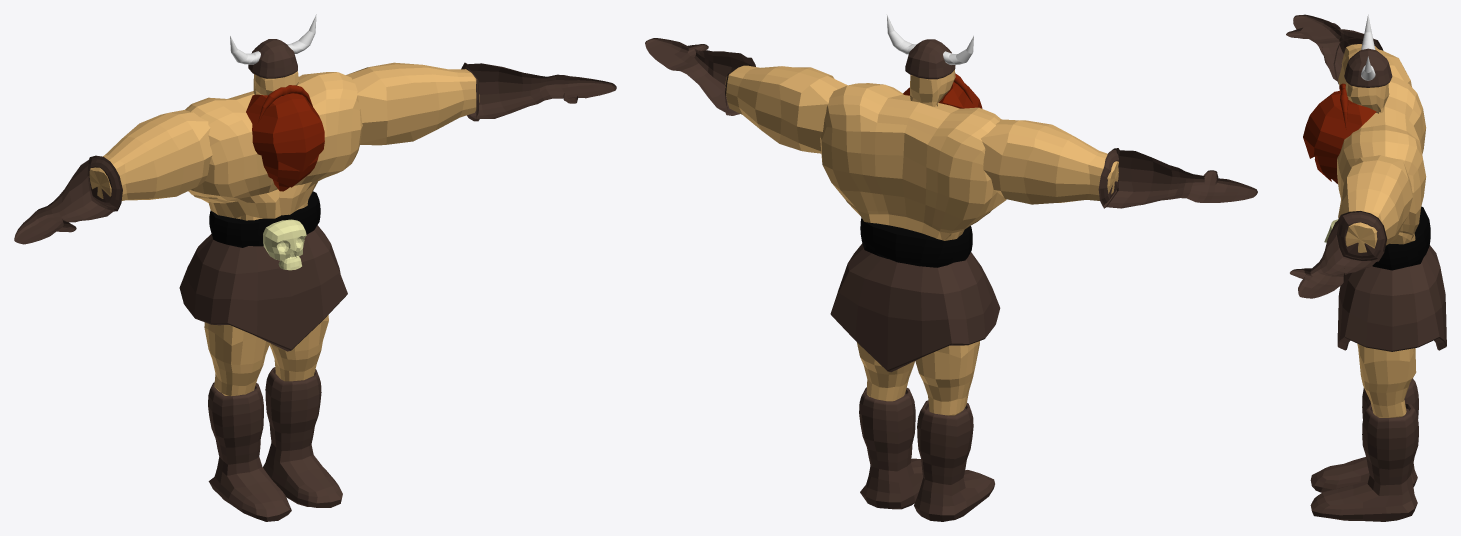
File: heroe.fbx
3 views of the same model, side by side, from view 1: azimuth 30°, elevation 25°; view 2: azimuth 150°, elevation 25°; view 3: azimuth 270°, elevation 25° (orthographic). The views are drawn at different scales.
Parts seen in each view (by area): view 1: falda, PECHO, Cubo.004, Cubo.001, Bota.R.001, Bota.R, BARBA, Guante.L, Guante.R, Cubo.007, cinturon, Cubo.003 (+2 smaller); view 2: PECHO, falda, Cubo.001, Cubo.004, Bota.R, Bota.R.001, Guante.R, cinturon, Guante.L, Cubo.007, Cubo.003, casco (+2 smaller); view 3: falda, Bota.R.001, PECHO, Cubo.004, Guante.L, Cubo.003, BARBA, Guante.R, Bota.R, cinturon, casco, cabeza (+4 smaller).
Boxes of the visible parts, bbox=[...] form: falda: bbox=[179, 225, 347, 351]; PECHO: bbox=[185, 72, 362, 220]; Cubo.004: bbox=[346, 62, 479, 145]; Cubo.001: bbox=[89, 109, 212, 200]; Bota.R.001: bbox=[263, 367, 342, 507]; Bota.R: bbox=[208, 382, 291, 521]; BARBA: bbox=[246, 93, 324, 191]; Guante.L: bbox=[461, 62, 616, 121]; Guante.R: bbox=[14, 155, 122, 244]; Cubo.007: bbox=[204, 322, 269, 396]; cinturon: bbox=[209, 191, 320, 247]; Cubo.003: bbox=[269, 315, 328, 381]; PECHO: bbox=[820, 83, 1006, 240]; falda: bbox=[830, 243, 1000, 372]; Cubo.001: bbox=[981, 119, 1118, 204]; Cubo.004: bbox=[725, 65, 847, 153]; Bota.R: bbox=[914, 400, 994, 521]; Bota.R.001: bbox=[859, 387, 922, 509]; Guante.R: bbox=[1098, 148, 1257, 208]; cinturon: bbox=[860, 217, 972, 267]; Guante.L: bbox=[645, 38, 755, 115]; Cubo.007: bbox=[915, 341, 979, 415]; Cubo.003: bbox=[857, 342, 914, 401]; casco: bbox=[905, 39, 955, 79]; falda: bbox=[1337, 245, 1446, 351]; Bota.R.001: bbox=[1310, 402, 1418, 521]; PECHO: bbox=[1337, 76, 1426, 244]; Cubo.004: bbox=[1338, 155, 1412, 252]; Guante.L: bbox=[1290, 211, 1387, 298]; Cubo.003: bbox=[1357, 343, 1416, 417]; BARBA: bbox=[1303, 91, 1376, 183]; Guante.R: bbox=[1286, 14, 1383, 84]; Bota.R: bbox=[1310, 378, 1418, 492]; cinturon: bbox=[1372, 206, 1430, 270]; casco: bbox=[1344, 48, 1392, 87]; cabeza: bbox=[1345, 82, 1389, 113].
Bounding box in the file's own units: 580 × 437 × 136.
